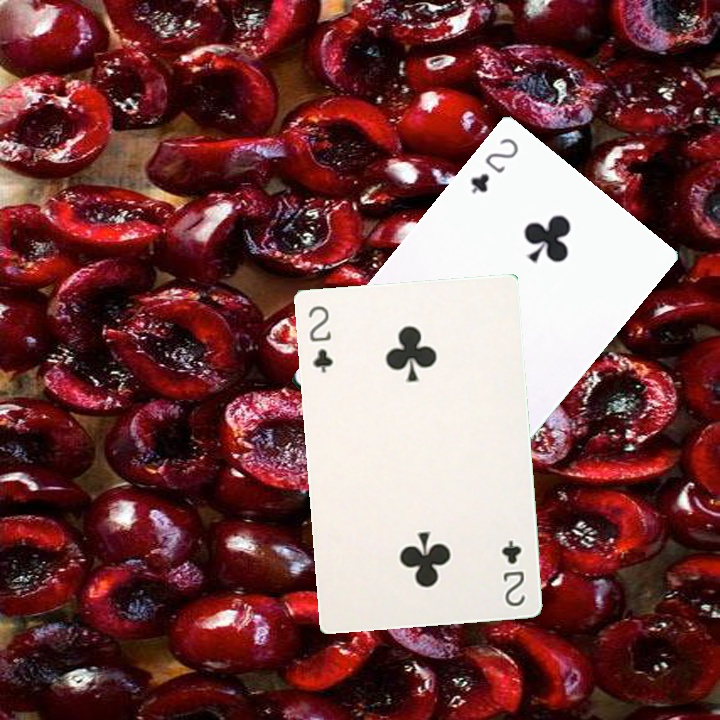2c: (466, 133, 522, 197), (304, 302, 335, 376), (497, 536, 528, 609)
